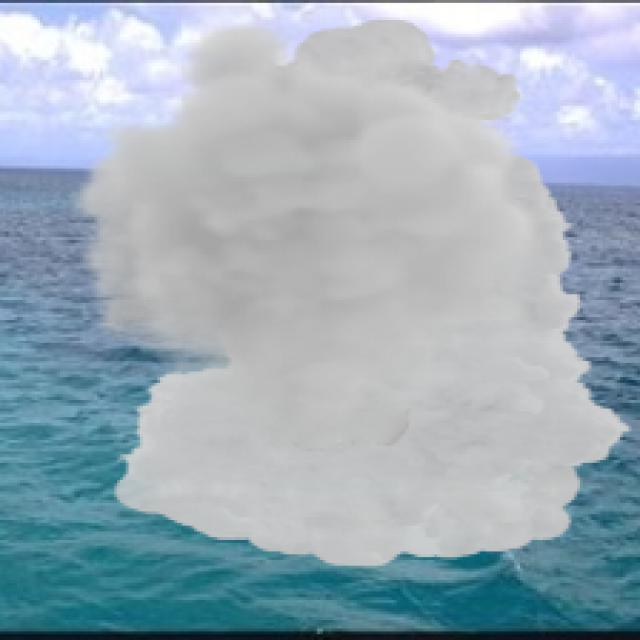smoke: (69, 17, 634, 569)
